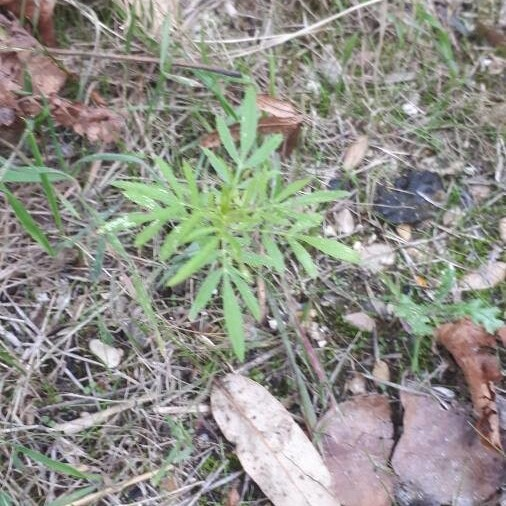obstacle: (134, 124, 354, 352)
